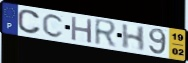9: (147, 27, 168, 56)
C: (17, 9, 43, 36), (41, 13, 65, 39)
H: (121, 24, 147, 53), (70, 15, 94, 45)
R: (94, 17, 119, 49)
